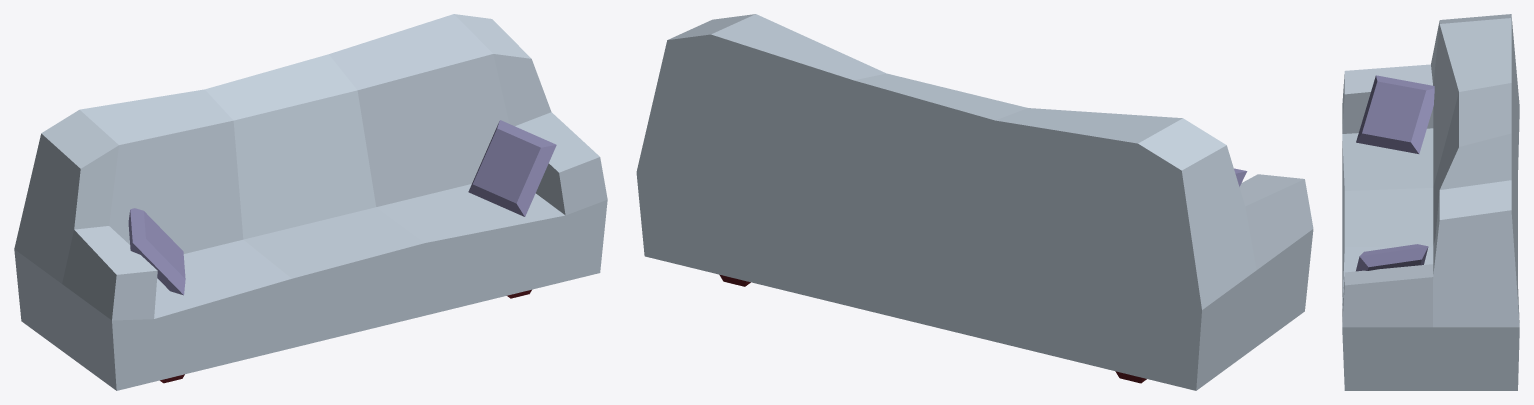
File: Sofá.fbx
3 renders of one model, left to right at view 1: azimuth 30°, elevation 25°; view 2: azimuth 150°, elevation 25°; view 3: azimuth 270°, elevation 25°, orthographic. The views are drawn at different scales.
Visible parts, largest first — view 1: Sofa; view 2: Sofa; view 3: Sofa.
Part boxes in pixels (x1,y1,x2,y2): Sofa: (14, 14, 607, 390); Sofa: (636, 14, 1313, 390); Sofa: (1342, 14, 1519, 390).
Size of the model in its own units: 7.32 by 3.11 by 2.5.
